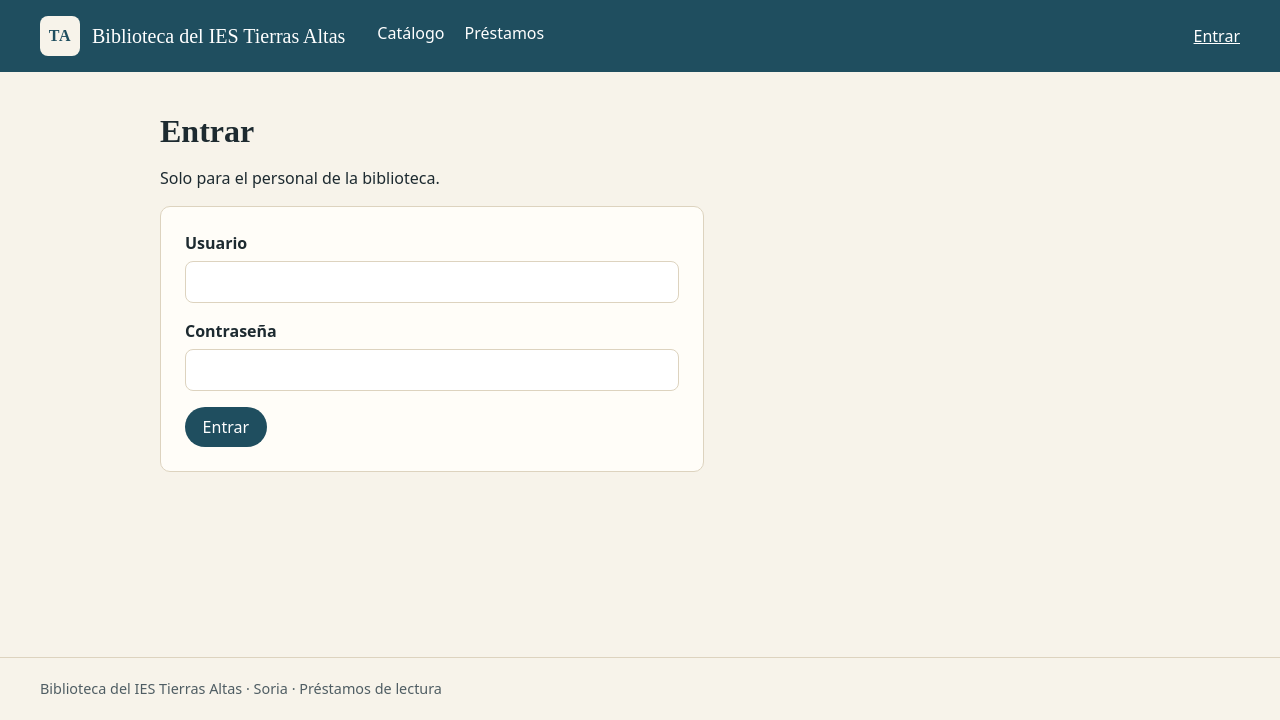
Scenario: La sesión › una contraseña incorrecta se queda en la página, con un aviso
Type "marta" into the field labelled "Usuario" at (432,282), box [185, 261, 679, 303]
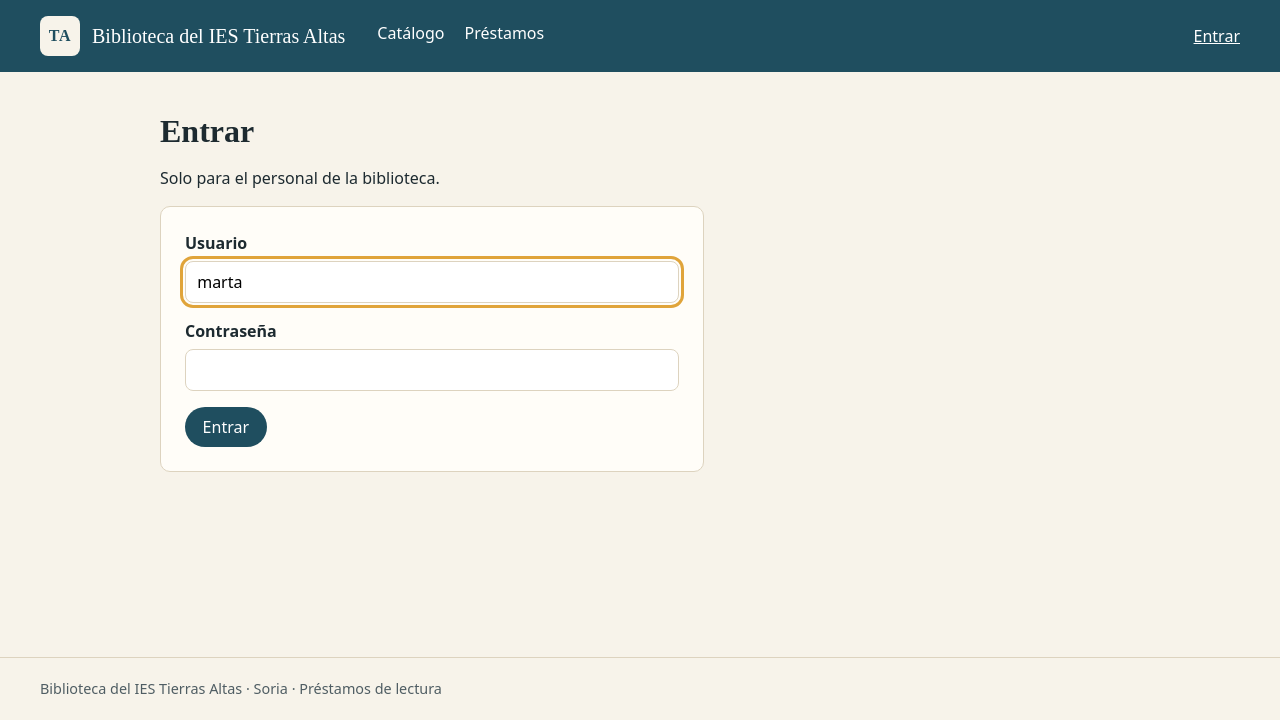
Type "otra" into the password field labelled "Contraseña" at (432,370), box [185, 349, 679, 391]
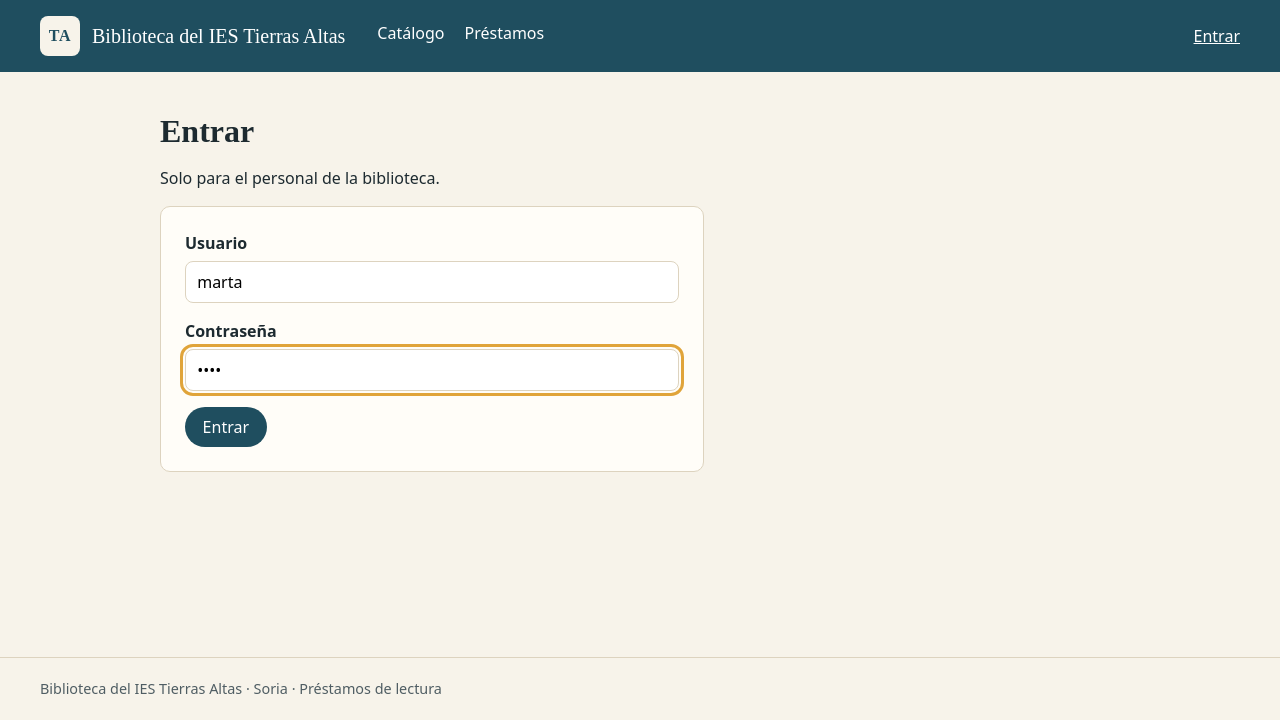
Click the button "Entrar" at (226,427), box [185, 407, 267, 447]
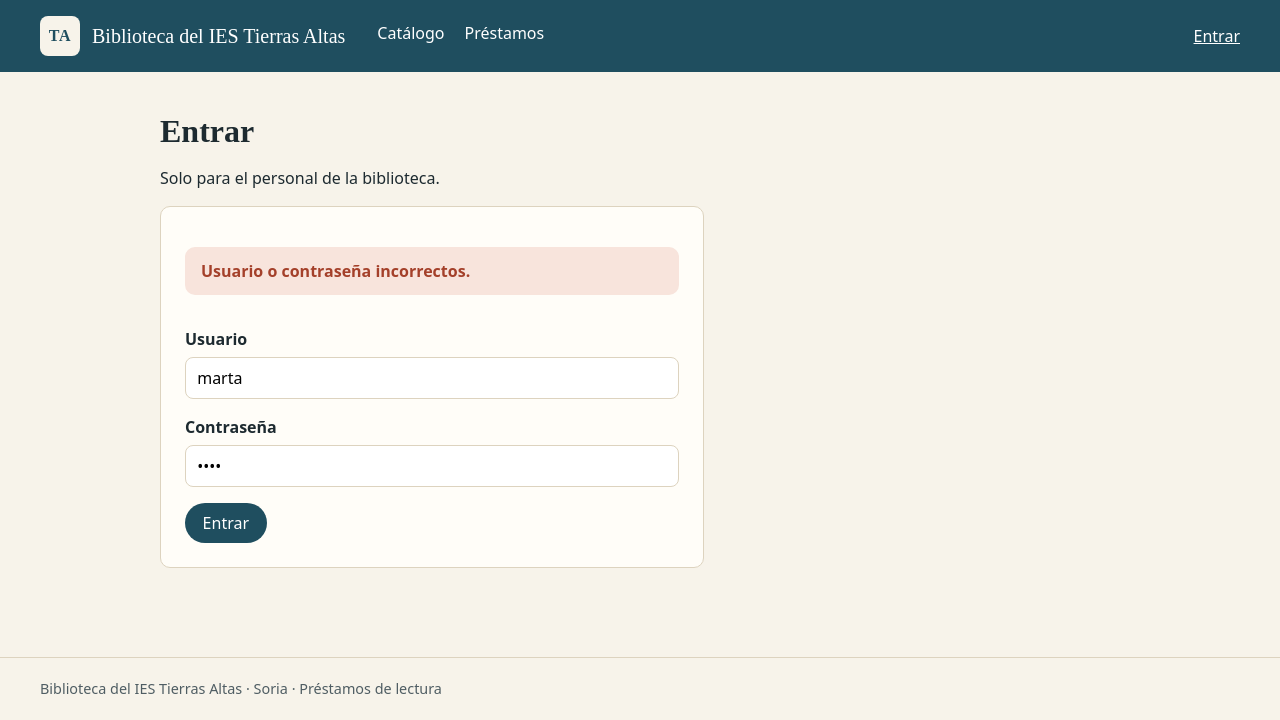
Expected: the message reads "Usuario o contraseña incorrectos.", [201, 260, 470, 282]
